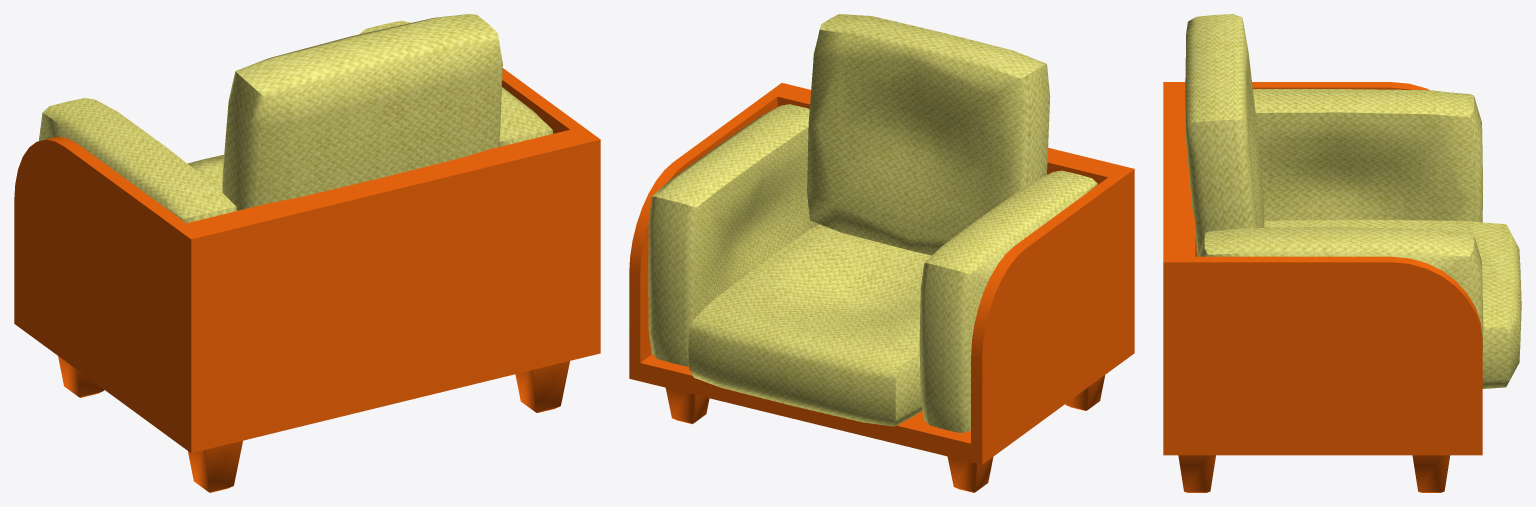
Rendered from furniture_seating_210067.glb.
3 renders of one model, left to right at view 1: azimuth 30°, elevation 25°; view 2: azimuth 150°, elevation 25°; view 3: azimuth 270°, elevation 25°, orthographic. The views are drawn at different scales.
Visible parts, largest first — view 1: furniture_seating_210067; view 2: furniture_seating_210067; view 3: furniture_seating_210067.
Part boxes in pixels (box(x1,y1,x2,y2)): furniture_seating_210067: box(14, 14, 600, 492); furniture_seating_210067: box(629, 14, 1134, 492); furniture_seating_210067: box(1163, 14, 1521, 492).
Bounding box in the file's own units: 0.9557 × 0.8823 × 0.8029.
Materials: 1 (1 with a texture image).
